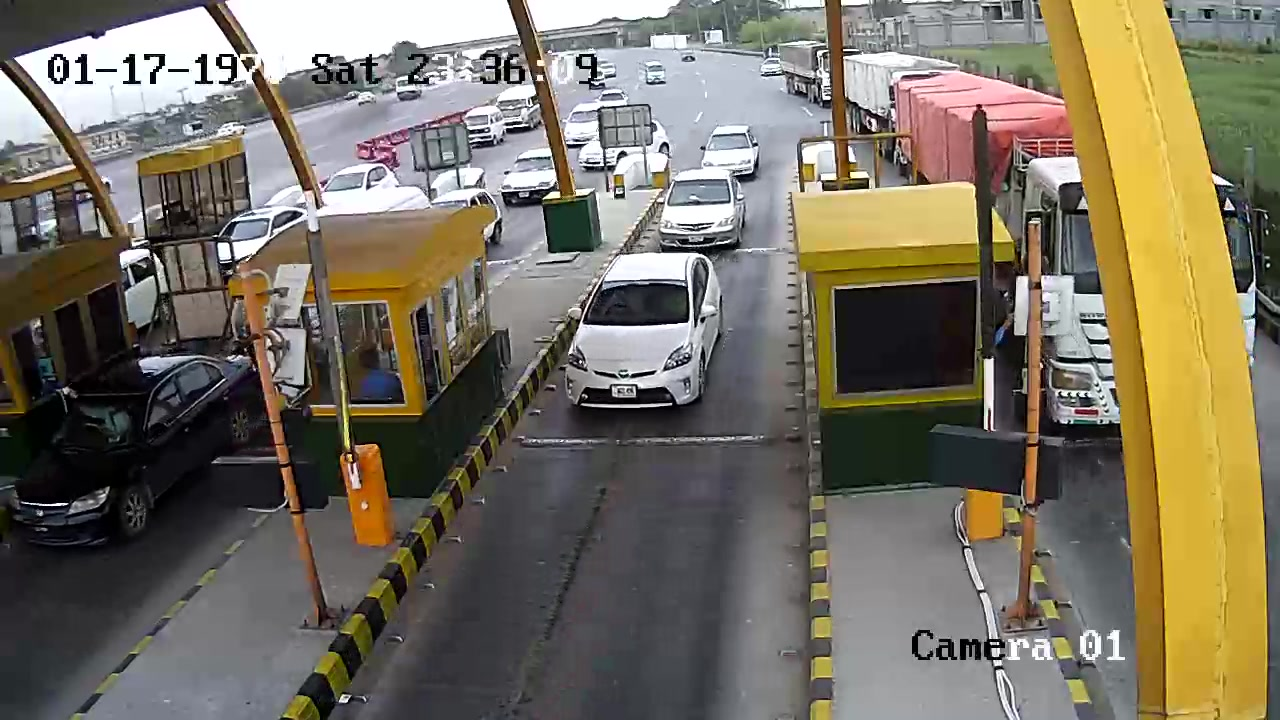F1: (547, 251, 735, 419)
